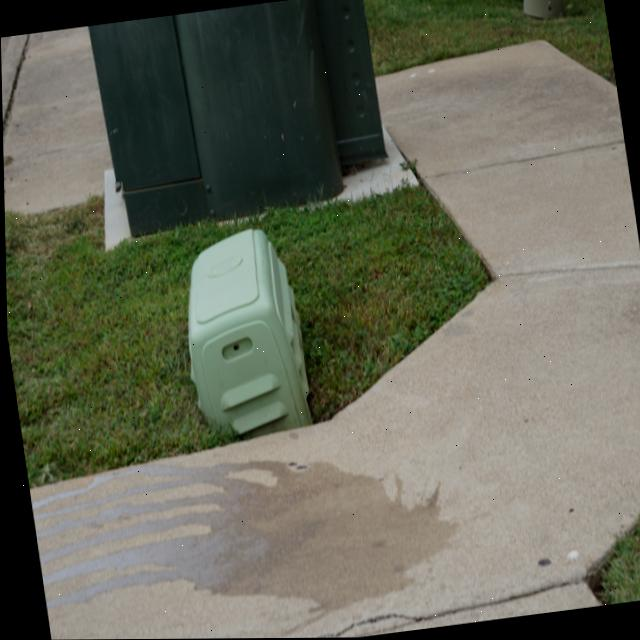Obstacle: (88, 0, 384, 235), (187, 229, 309, 434), (523, 0, 564, 20)
Sidewalk: (27, 42, 640, 640), (2, 26, 111, 212)
